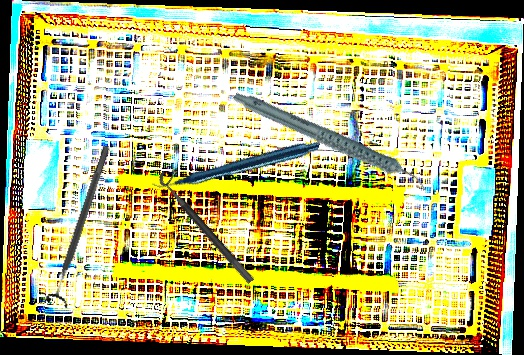Fixation Ring: (155, 164, 264, 285), (43, 142, 120, 309)
Handpiece: (230, 56, 430, 229), (151, 89, 321, 238)
